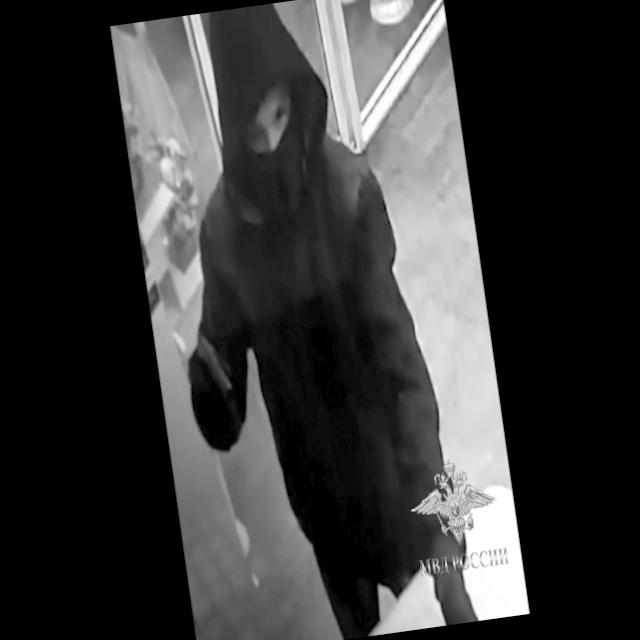gun: (190, 320, 248, 444)
person with a gun: (140, 0, 479, 640)
